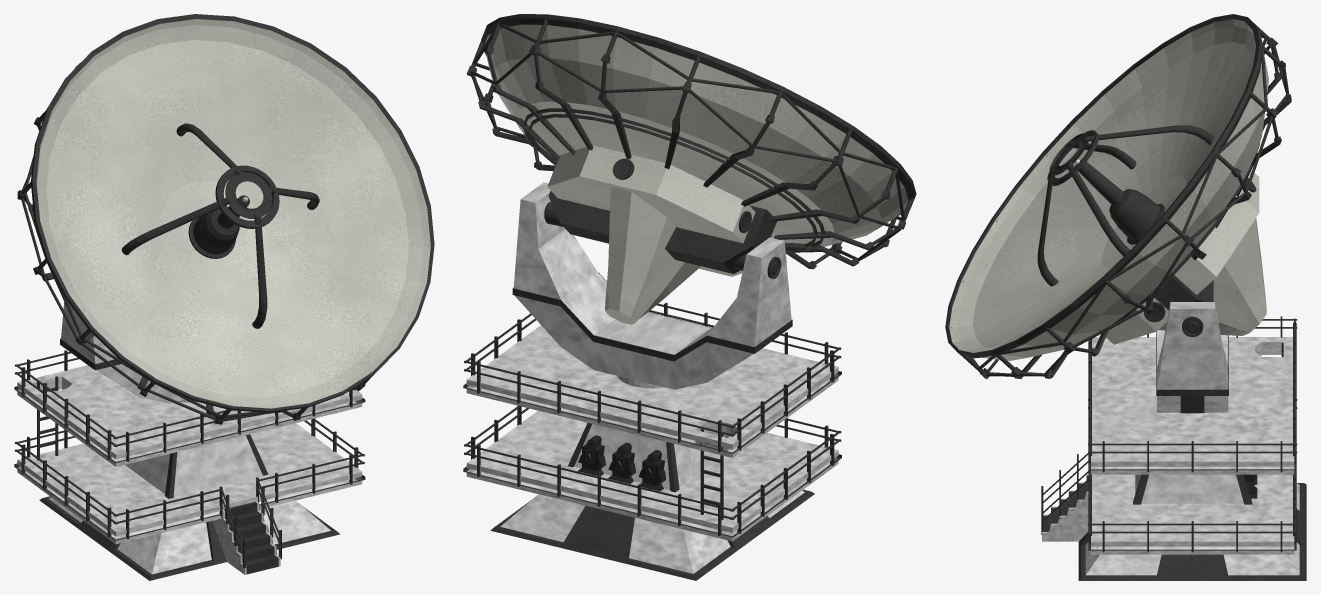
The model's file is ground_satellite_station_ii.glb.
3 views of the same model, side by side, from view 1: azimuth 30°, elevation 25°; view 2: azimuth 150°, elevation 25°; view 3: azimuth 270°, elevation 25° (orthographic). The views are drawn at different scales.
Parts seen in each view (by area): view 1: Object_3, Object_5, Object_2; view 2: Object_5, Object_3, Object_2, Object_4; view 3: Object_3, Object_5, Object_2.
Boxes of the visible parts, bbox=[...] form: Object_3: bbox=[36, 19, 430, 408]; Object_5: bbox=[17, 197, 362, 574]; Object_2: bbox=[14, 14, 434, 580]; Object_5: bbox=[466, 182, 838, 573]; Object_3: bbox=[484, 24, 908, 324]; Object_2: bbox=[463, 14, 916, 580]; Object_4: bbox=[577, 435, 665, 491]; Object_3: bbox=[949, 19, 1268, 360]; Object_5: bbox=[1042, 159, 1299, 575]; Object_2: bbox=[945, 14, 1306, 580].
Size of the model in its own units: 2.01 by 2.43 by 1.63.
4 materials, 4 textured.
